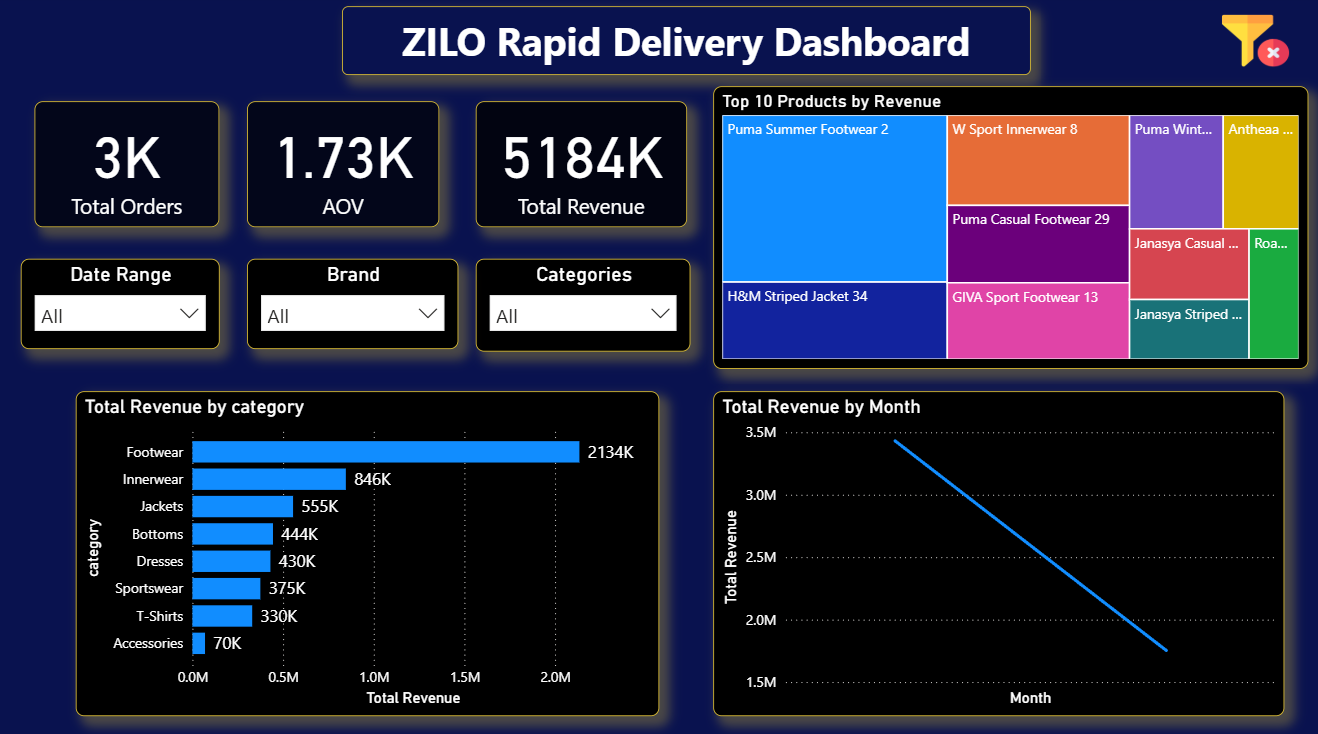

The dashboard page shown, as its layout file describes it:
{"tool":"powerbi","page":{"name":"Page 1","canvas":[1280,720],"ordinal":0},"visuals":[{"type":"card","fields":{"Values":["orders_clean.Total Orders"]},"box":[36.2,102.5,178.6,121.9],"z":0},{"type":"card","fields":{"Values":["orders_clean.Total Revenue"]},"box":[462.1,102.5,203.9,121.9],"z":1},{"type":"lineChart","fields":{"Y":["orders_clean.Total Revenue"],"Category":["orders_clean.order_date.Variation.Date Hierarchy.Month","orders_clean.order_date.Variation.Date Hierarchy.Day"]},"box":[679.2,382.4,551.3,313.7],"z":5},{"type":"textbox","box":[333,10.9,664.7,66.4],"z":6},{"type":"image","box":[160.5,10.9,160.5,66.4],"z":7},{"type":"barChart","fields":{"Category":["products_clean.category"],"Y":["orders_clean.Total Revenue"]},"box":[76,382.4,563.4,313.7],"z":8},{"type":"treemap","title":"Top 10 Products by Revenue","fields":{"Group":["top_products_by_revenue.product_name"],"Values":["orders_clean.Total Revenue"]},"box":[691.3,88.1,574.3,272.7],"z":9},{"type":"slicer","title":"Date Range","fields":{"Values":["orders_clean.order_date"]},"box":[22.9,254.6,191.8,86.9],"z":10},{"type":"slicer","title":"Categories","fields":{"Values":["products_clean.category"]},"box":[462.1,254.6,207.5,89.3],"z":11},{"type":"slicer","title":"Brand","fields":{"Values":["products_clean.brand"]},"box":[241.3,254.6,203.9,86.9],"z":12},{"type":"image","box":[1177.5,10.9,74.8,66.4],"z":13},{"type":"card","fields":{"Values":["orders_clean.AOV"]},"box":[241.3,102.5,185.8,121.9],"z":14}]}

Visuals, with their boxes in screenshot pixels (x1, y1, x2, y2), scaled from the page's 1280x720 canvas onto the 1318x734 screenshot:
card - orders_clean.Total Orders: x1=37, y1=104, x2=221, y2=229
card - orders_clean.Total Revenue: x1=476, y1=104, x2=686, y2=229
lineChart - orders_clean.Total Revenue x orders_clean.order_date.Variation.Date Hierarchy.Month: x1=699, y1=390, x2=1267, y2=710
textbox: x1=343, y1=11, x2=1027, y2=79
image: x1=165, y1=11, x2=331, y2=79
barChart - products_clean.category x orders_clean.Total Revenue: x1=78, y1=390, x2=658, y2=710
"Top 10 Products by Revenue" treemap: x1=712, y1=90, x2=1303, y2=368
"Date Range" slicer: x1=24, y1=260, x2=221, y2=348
"Categories" slicer: x1=476, y1=260, x2=689, y2=351
"Brand" slicer: x1=248, y1=260, x2=458, y2=348
image: x1=1212, y1=11, x2=1289, y2=79
card - orders_clean.AOV: x1=248, y1=104, x2=440, y2=229
